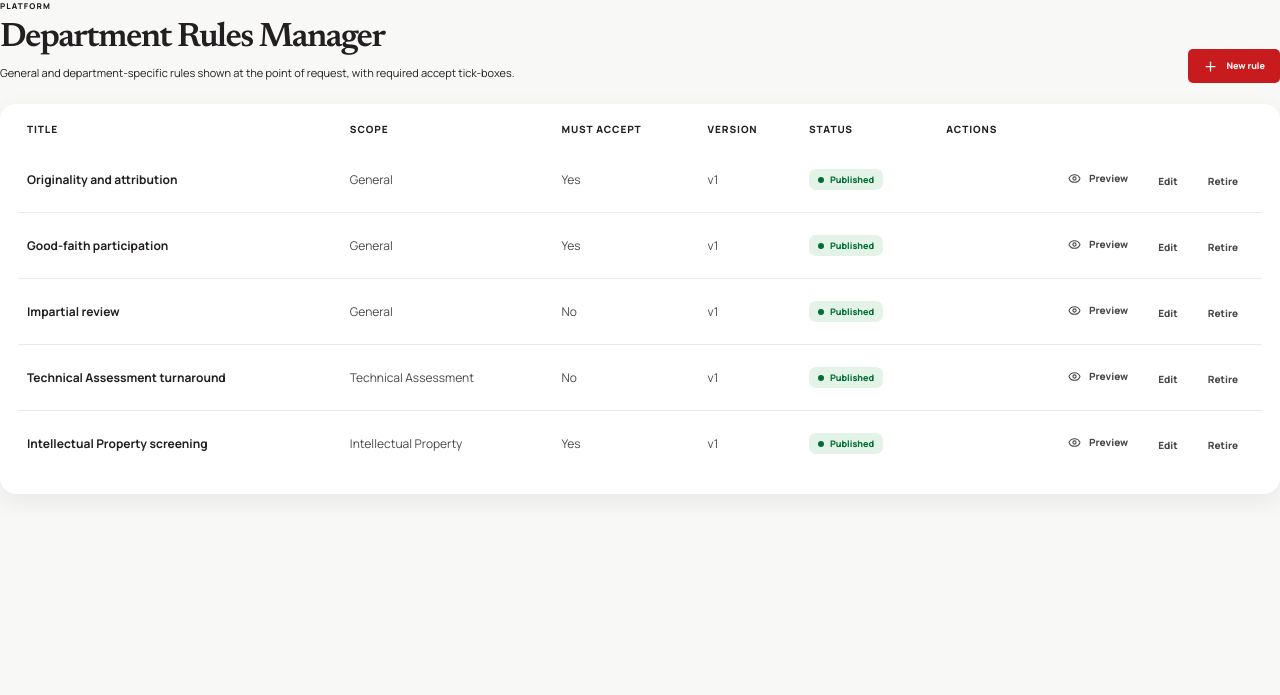
Test: RulesManagerPage › keeps a published rule published when only its wording is edited
Click the button "Edit" in the row of "Impartial review" at (1168, 313), box [1143,294,1193,332]
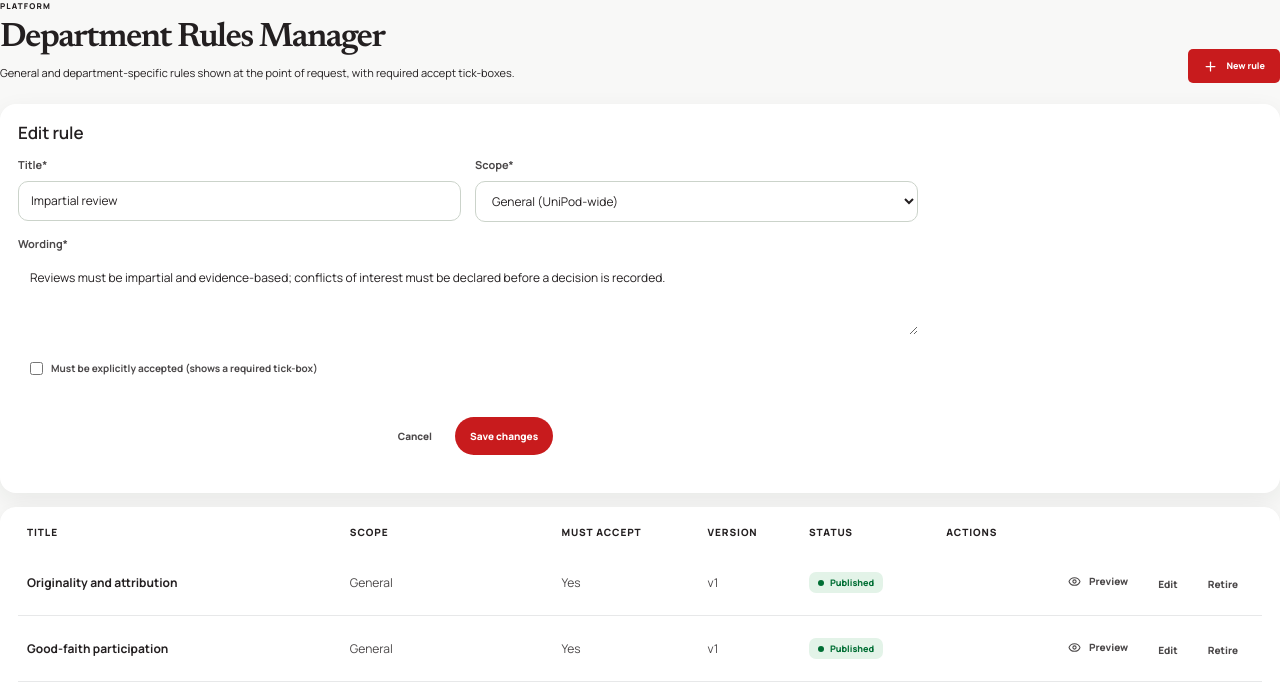
Now the button "Save changes" is shown, box [455,417,553,455]
Replace the text in the text box labelled "Wording*" with "Reviews must use evidence-based reasoning and disclose any conflict of interest before a decision." at (468, 297), box [18,259,918,335]
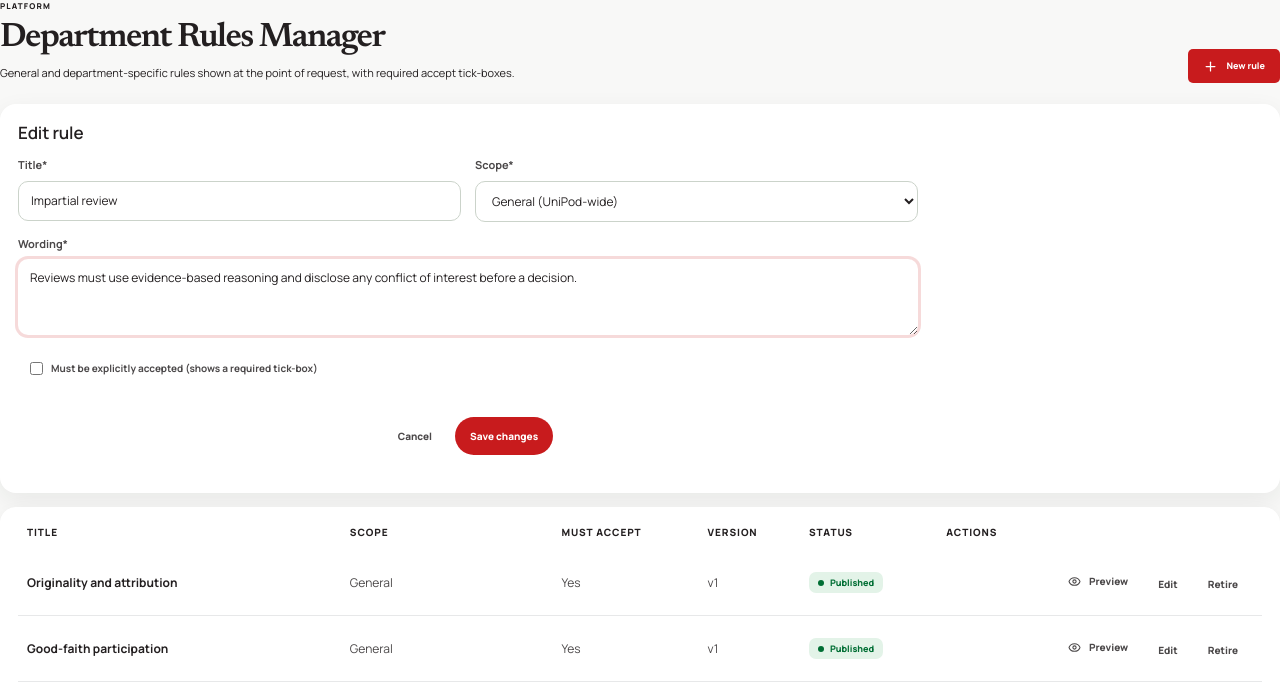
Click the button "Save changes" at (504, 436), box [455,417,553,455]
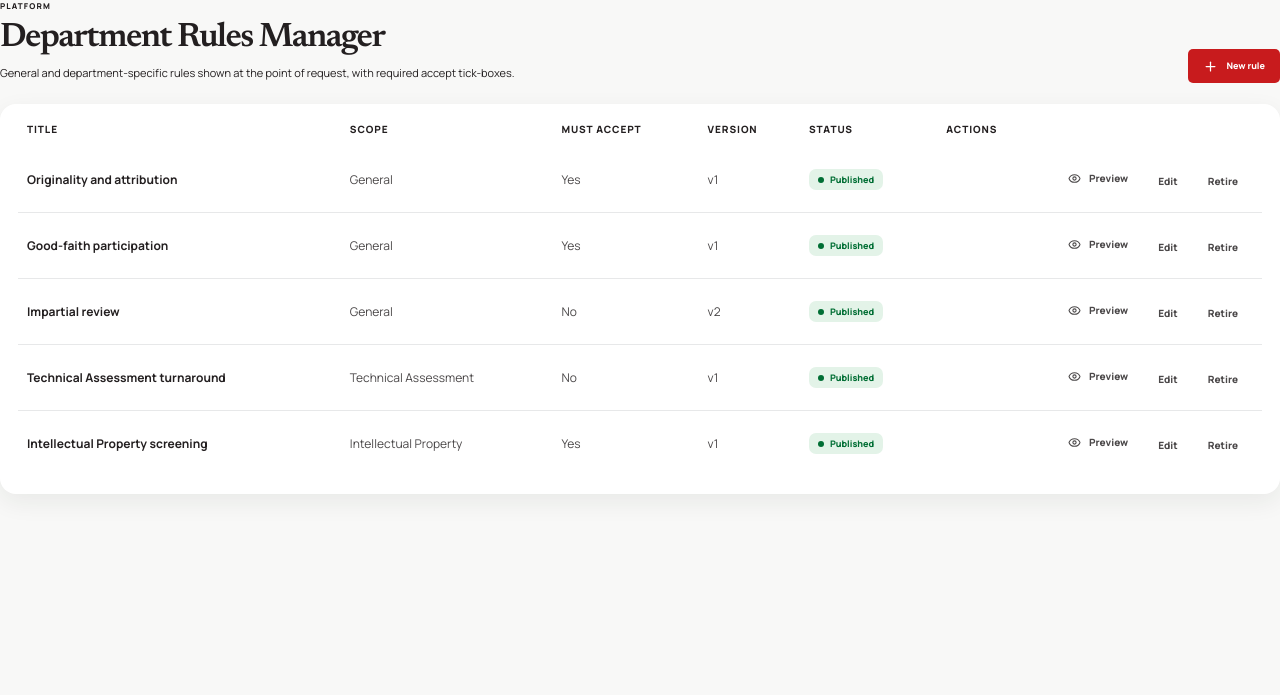
Expected: the text "Published" in the row of "Impartial review" is shown, [830,305,874,318]
Click the button "Preview" in the row of "Impartial review" at (1098, 310), box [1053,291,1143,329]
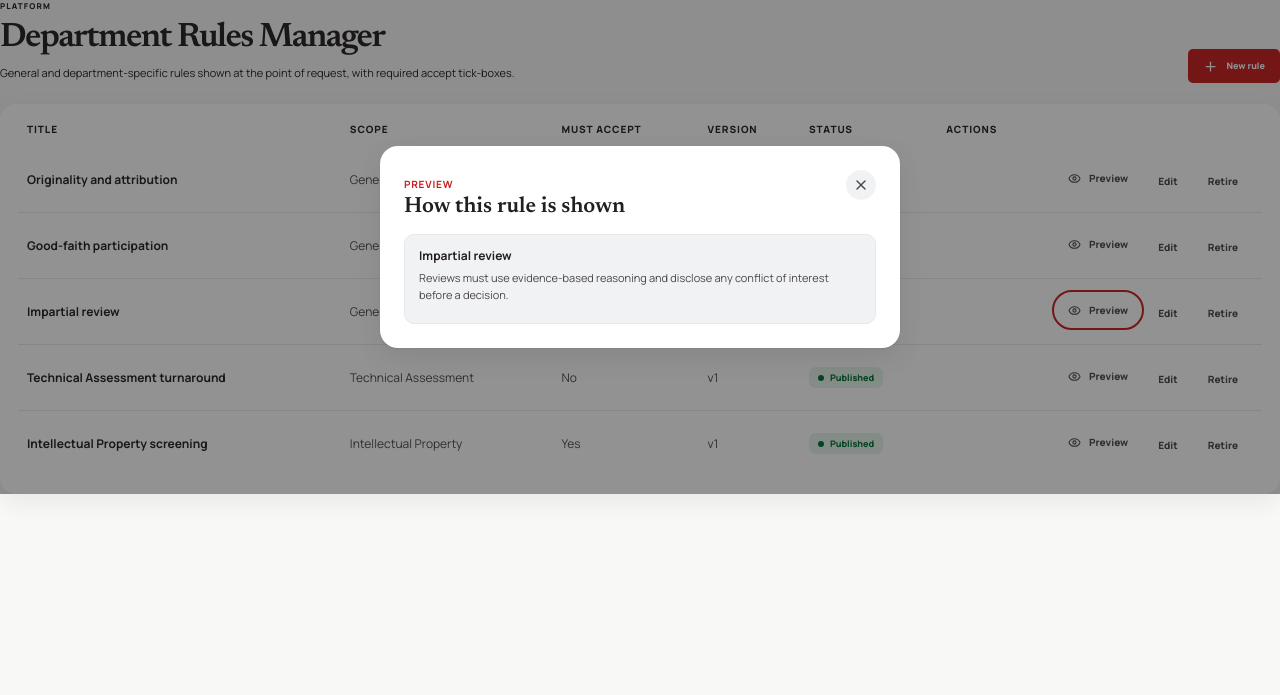
Now the text "Reviews must use evidence-based reasoning and disclose any conflict of interest before a decision." is shown, box [419,270,829,302]
